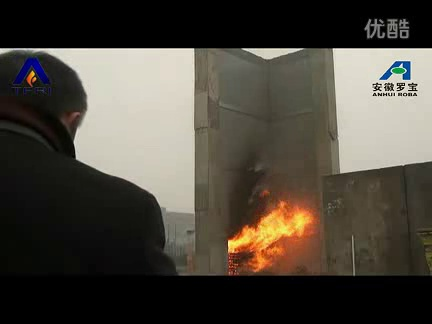fire: (225, 195, 313, 272)
